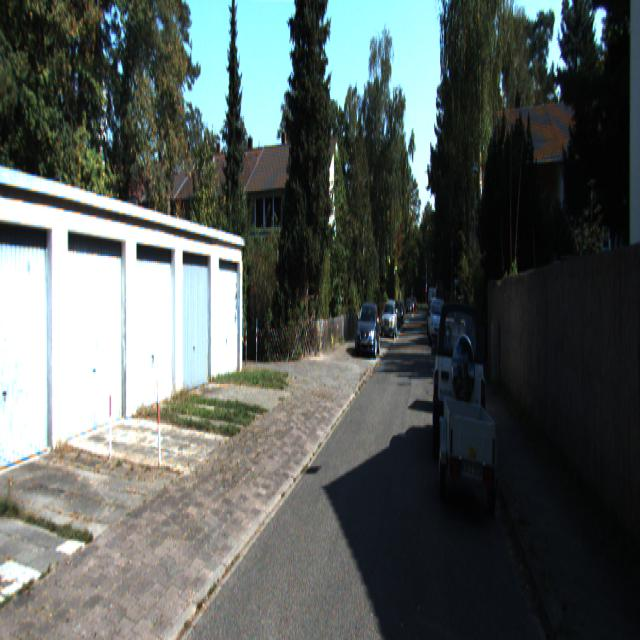Car: (434, 292, 486, 464), (443, 393, 498, 522), (356, 302, 380, 358), (429, 294, 445, 344), (382, 301, 398, 339)
